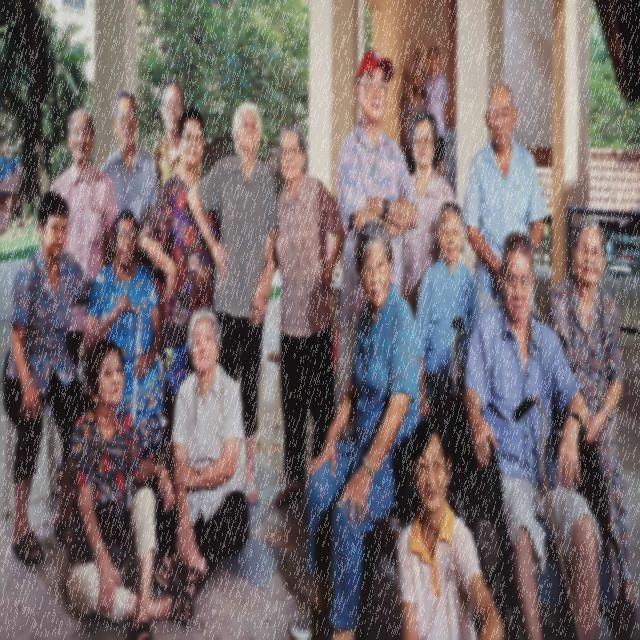pessoa: (282, 215, 424, 639), (461, 230, 601, 640), (62, 334, 196, 640), (546, 215, 637, 639), (185, 98, 279, 508), (252, 125, 347, 506), (2, 189, 92, 567), (148, 300, 254, 608), (337, 49, 420, 410), (392, 413, 512, 640), (48, 107, 118, 486), (136, 104, 217, 412), (81, 207, 165, 464), (462, 80, 545, 324), (414, 199, 480, 434), (402, 107, 458, 324), (99, 86, 160, 235), (152, 76, 204, 196), (423, 44, 450, 180), (402, 61, 430, 173)
